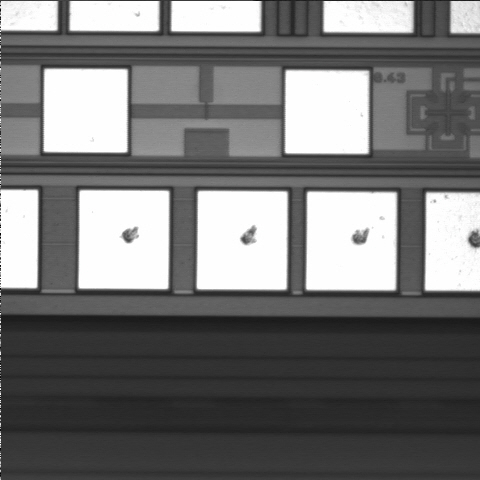pad: (79, 190, 169, 289), (197, 191, 287, 290), (306, 192, 396, 290), (285, 70, 369, 154), (44, 69, 127, 152)
